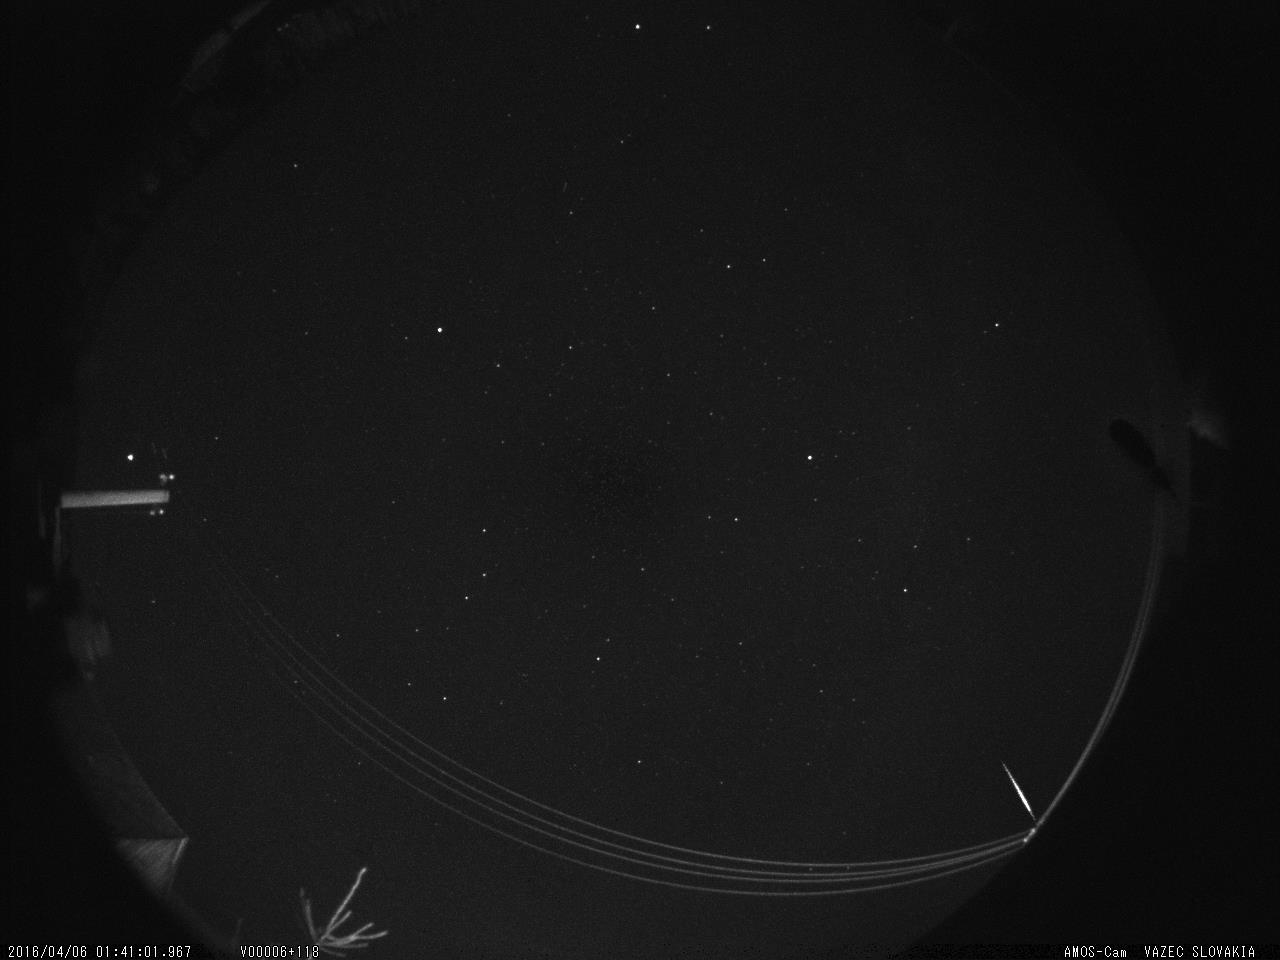meteor: (999, 756, 1042, 836)
